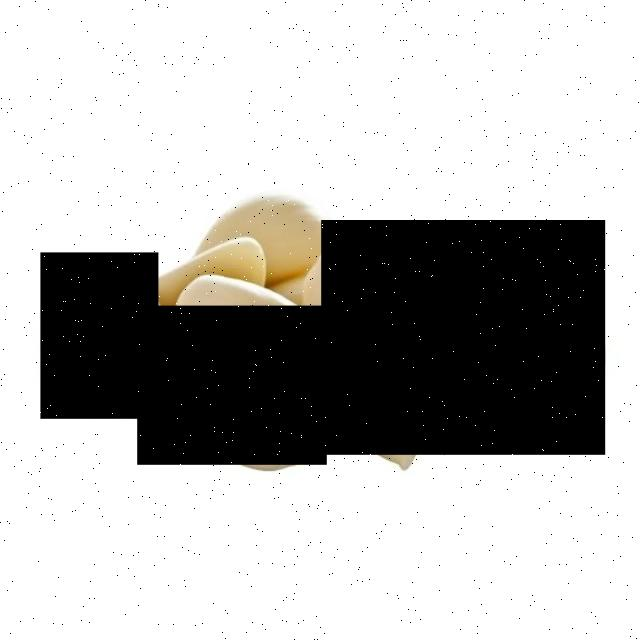Garlic: (322, 220, 606, 456), (138, 306, 327, 464), (40, 252, 158, 419)
